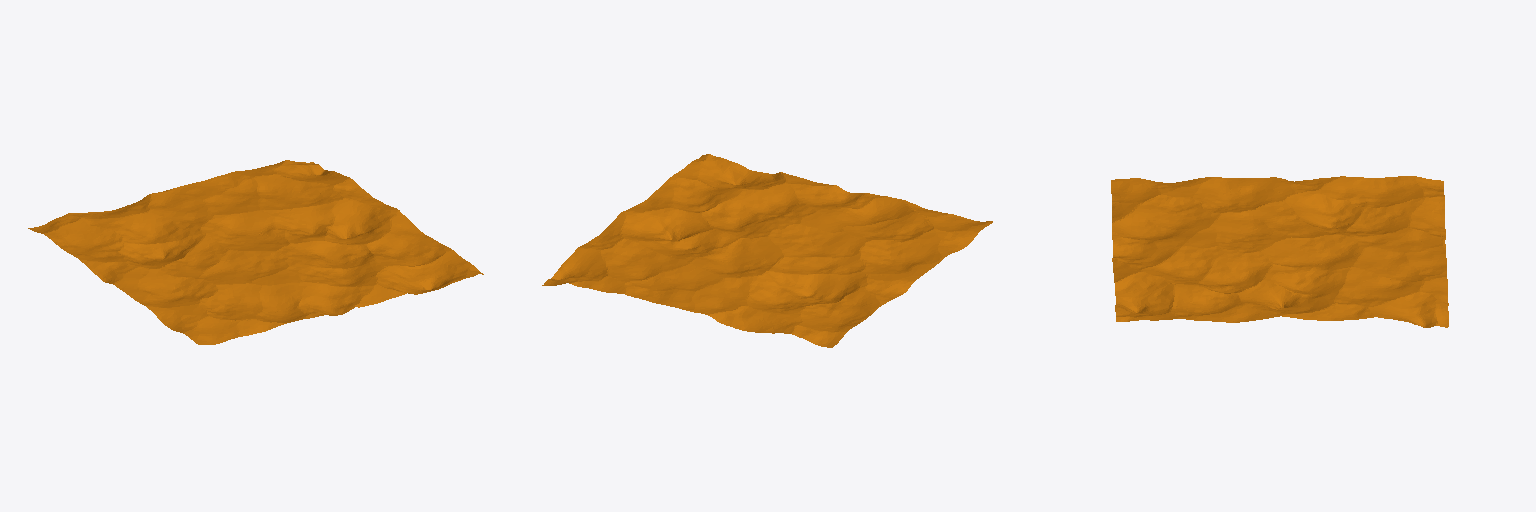
Rendered from desert.obj.
3 renders of one model, left to right at view 1: azimuth 30°, elevation 25°; view 2: azimuth 150°, elevation 25°; view 3: azimuth 270°, elevation 25°, orthographic.
Visible parts, largest first — view 1: Plane-003_Plane-003.001; view 2: Plane-003_Plane-003.001; view 3: Plane-003_Plane-003.001.
Boxes of the visible parts, <box> form: Plane-003_Plane-003.001: <box>28,160,483,344</box>; Plane-003_Plane-003.001: <box>542,154,992,347</box>; Plane-003_Plane-003.001: <box>1111,176,1448,327</box>.
Bounding box in the file's own units: 14.56 × 0.9483 × 14.53.